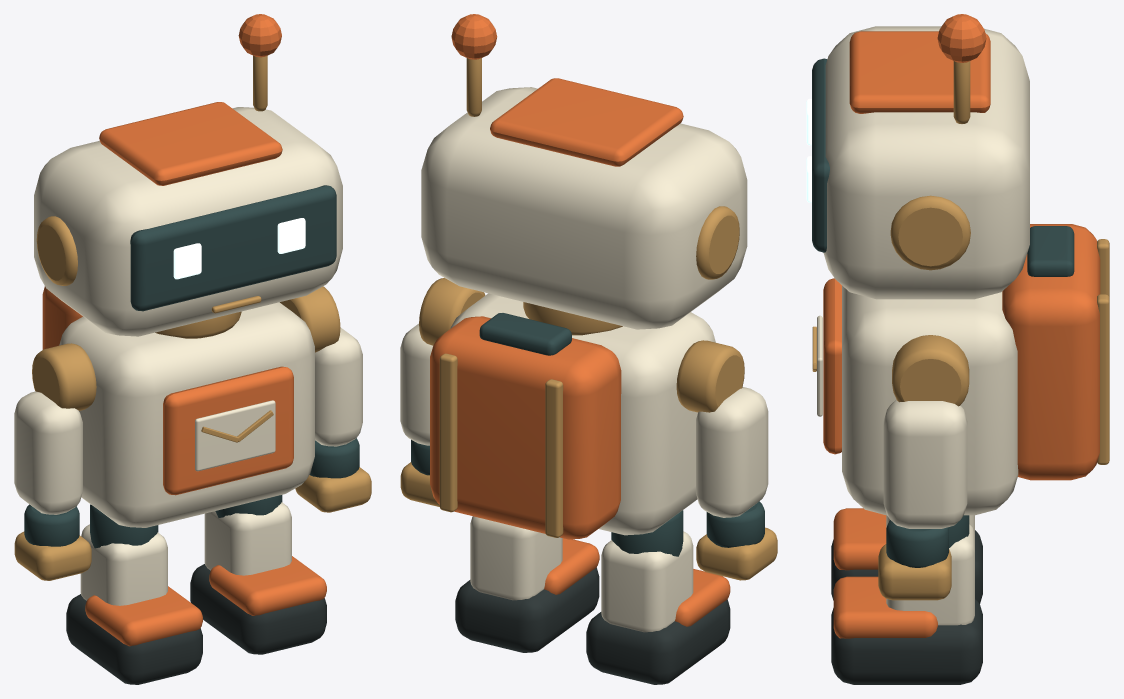
File: courier.glb
3 views of the same model, side by side, from view 1: azimuth 30°, elevation 25°; view 2: azimuth 150°, elevation 25°; view 3: azimuth 270°, elevation 25° (orthographic). The views are drawn at different scales.
Visible parts, largest first — view 1: Head, Body, LegL, LegR, ArmL, ArmR; view 2: Head, Body, LegL, ArmL, LegR, ArmR; view 3: Head, Body, ArmR, LegR, LegL.
Part boxes in pixels (x1,y1,x2,y2): Head: (34, 14, 342, 336); Body: (42, 286, 314, 527); LegL: (66, 504, 202, 684); LegR: (190, 495, 326, 654); ArmL: (14, 343, 96, 580); ArmR: (280, 286, 371, 512); Head: (421, 14, 747, 329); Body: (430, 293, 715, 539); LegL: (586, 510, 730, 684); ArmL: (676, 340, 777, 580); LegR: (455, 516, 599, 652); ArmR: (400, 278, 485, 506); Head: (806, 14, 1029, 299); Body: (812, 224, 1109, 515); ArmR: (878, 335, 969, 600); LegR: (831, 515, 982, 684); LegL: (831, 508, 982, 603).
Size of the model in its own units: 0.835 by 1.41 by 0.5805.
